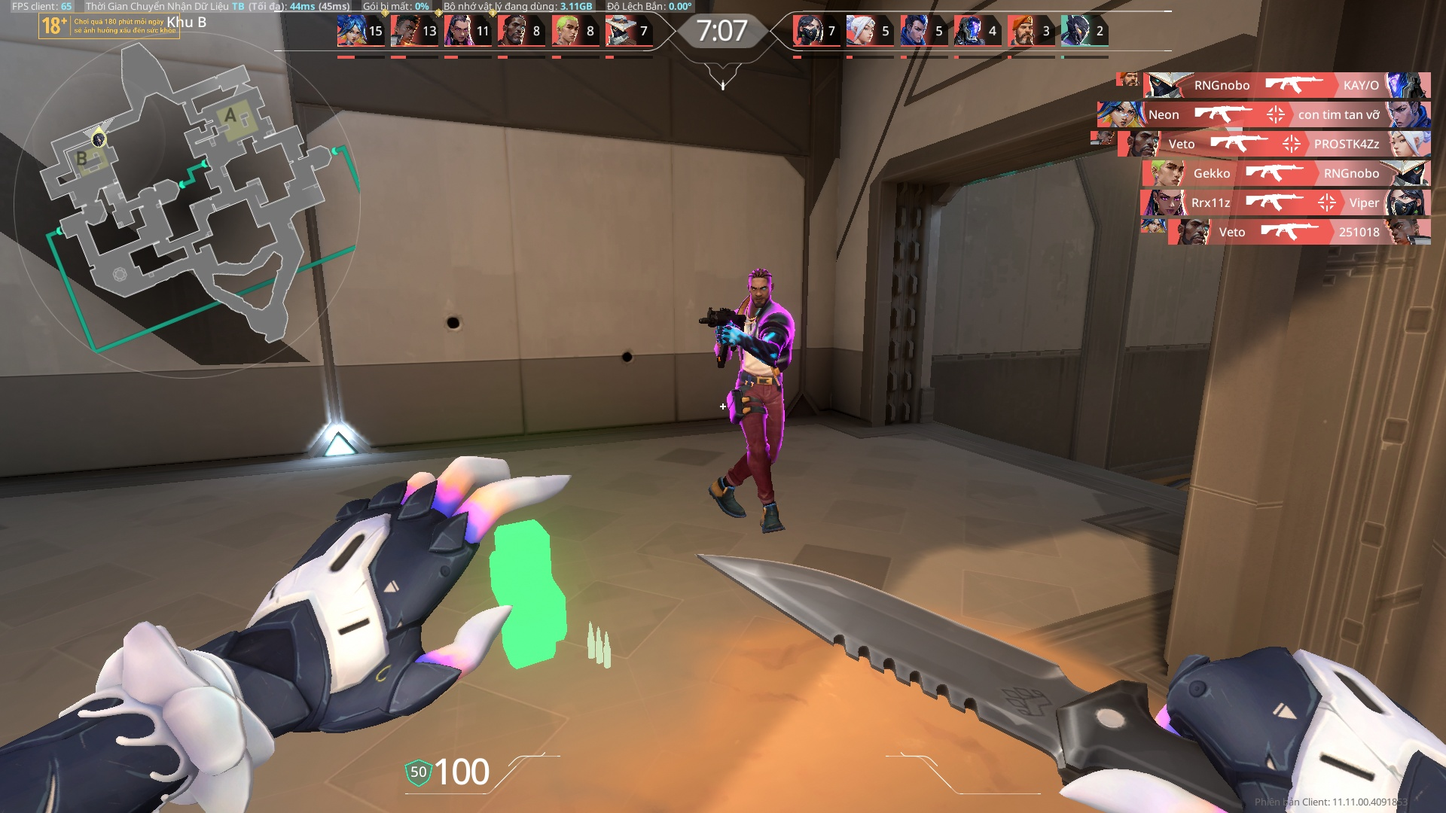body: (727, 294, 791, 382)
head: (746, 263, 777, 302)
